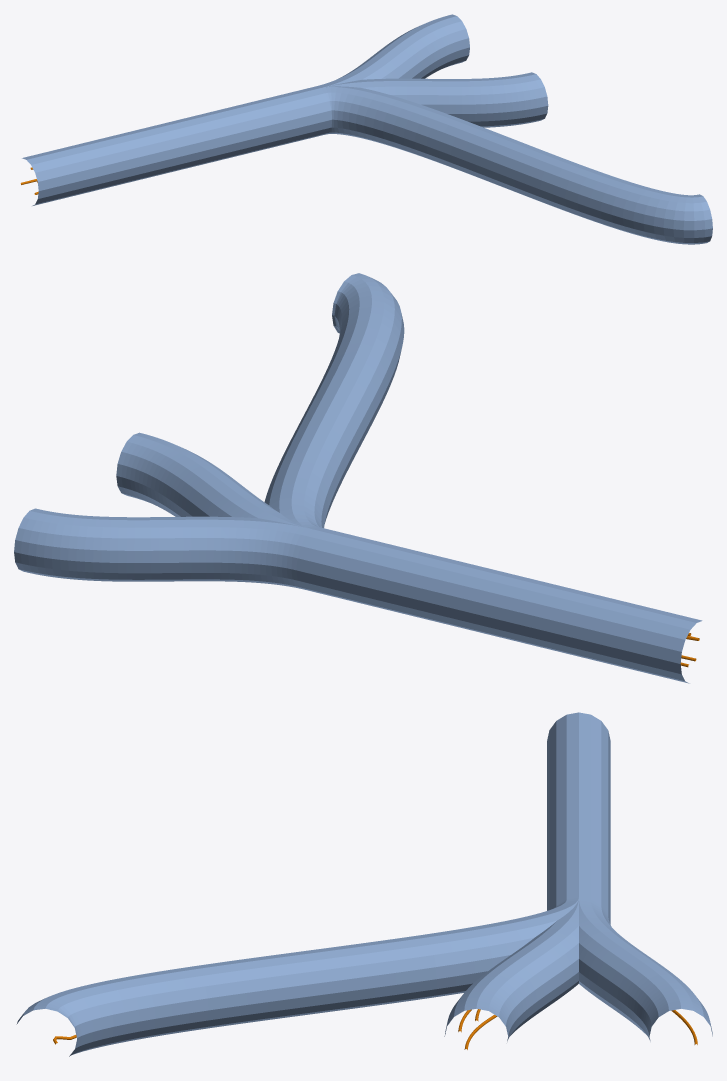
File: 3_A60025763_double_branch.glb
The picture shows the model from 3 angles, top to bottom: view 1: azimuth 30°, elevation 25°; view 2: azimuth 150°, elevation 25°; view 3: azimuth 270°, elevation 25°; orthographic projection. The views are drawn at different scales.
Visible parts, largest first — view 1: world; view 2: world; view 3: world.
Part boxes in pixels (left/top/right/bottom): world: left=20, top=14, right=712, bottom=244; world: left=14, top=273, right=702, bottom=683; world: left=16, top=712, right=712, bottom=1056.
Size of the model in its own units: 221 by 20 by 219.
